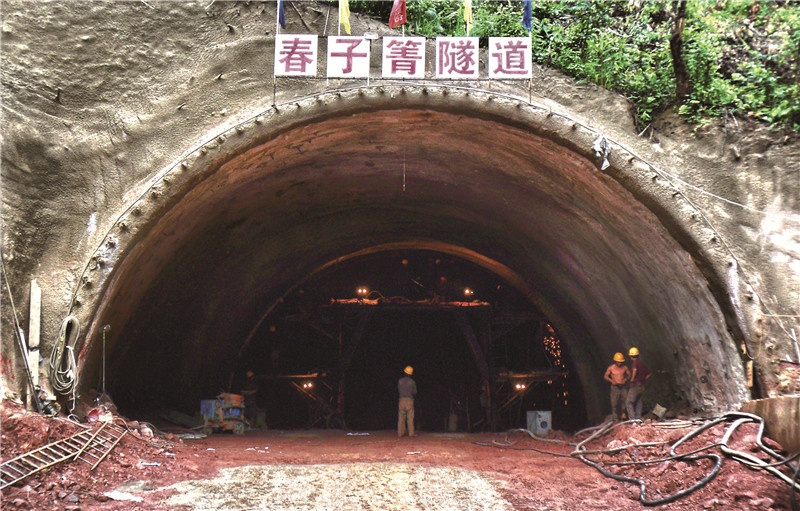yellow: (612, 350, 625, 366), (627, 346, 640, 361), (402, 365, 414, 378)
